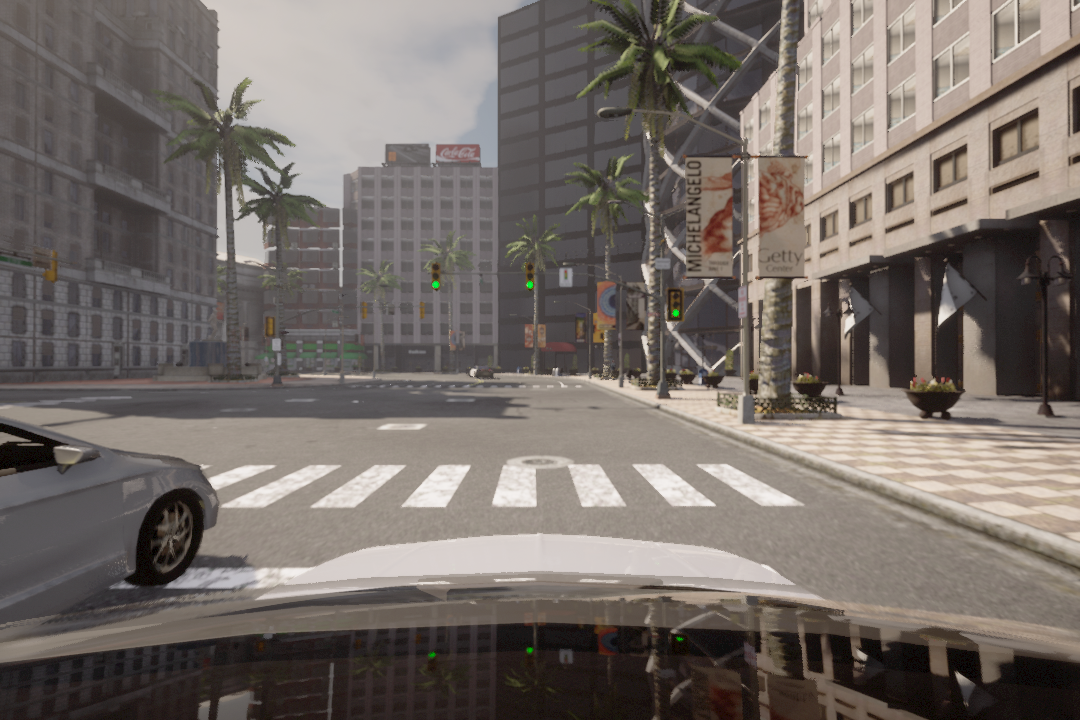TrafficLight: (667, 288, 681, 321), (522, 261, 537, 291), (430, 263, 441, 291)
walkside: (174, 459, 826, 519)
